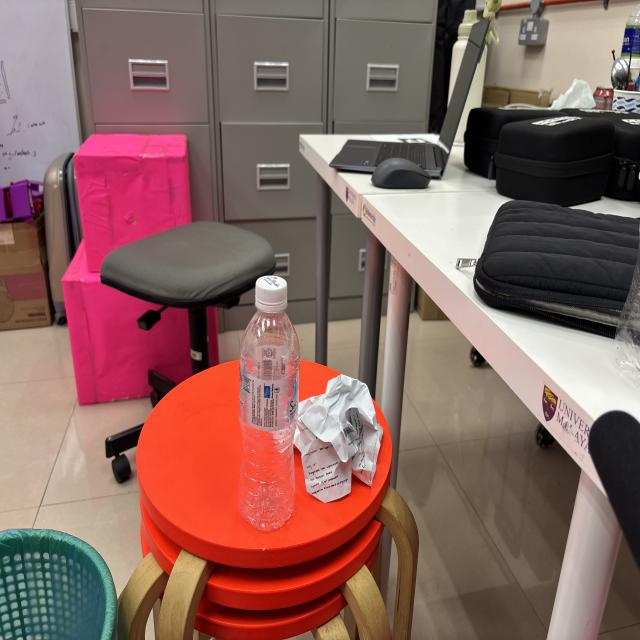crumpled_paper: (274, 369, 388, 509)
plastic_bottle: (235, 270, 302, 538)
